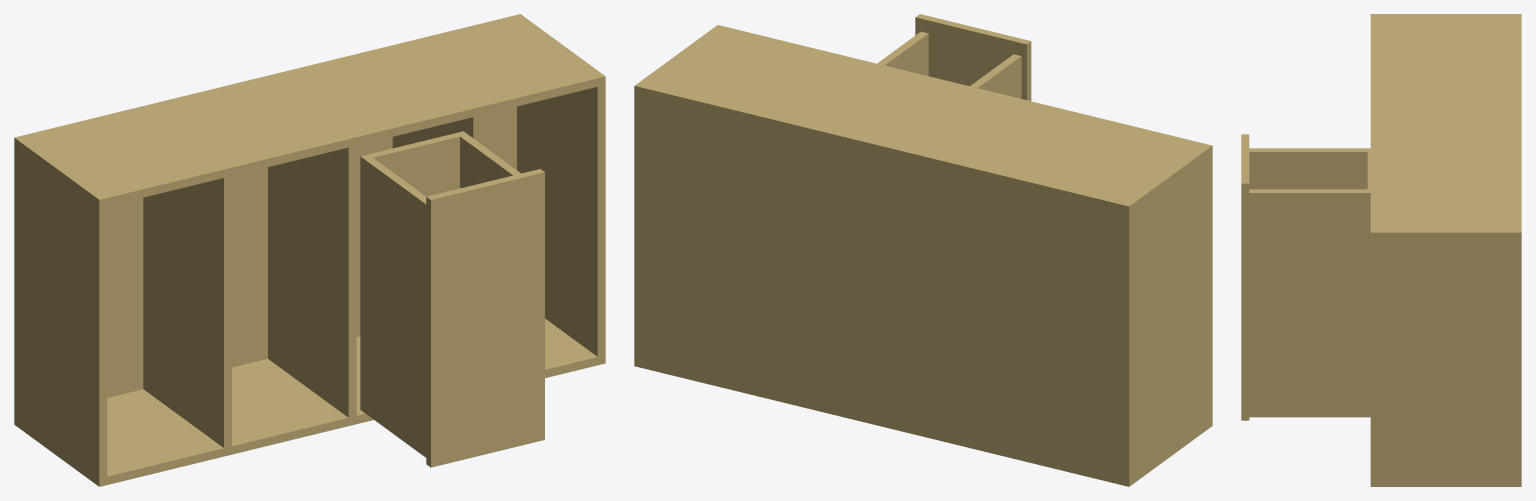
File: meuble_690c2cb0ca030.glb
3 renders of one model, left to right at view 1: azimuth 30°, elevation 25°; view 2: azimuth 150°, elevation 25°; view 3: azimuth 270°, elevation 25°, orthographic. The views are drawn at different scales.
Parts seen in each view (by area): view 1: world; view 2: world; view 3: world.
Boxes of the visible parts, x1=… form: world: x1=14, y1=14, x2=605, y2=486; world: x1=634, y1=14, x2=1212, y2=486; world: x1=1241, y1=14, x2=1521, y2=486.
Size of the model in its own units: 1.2 by 0.65 by 0.65.
